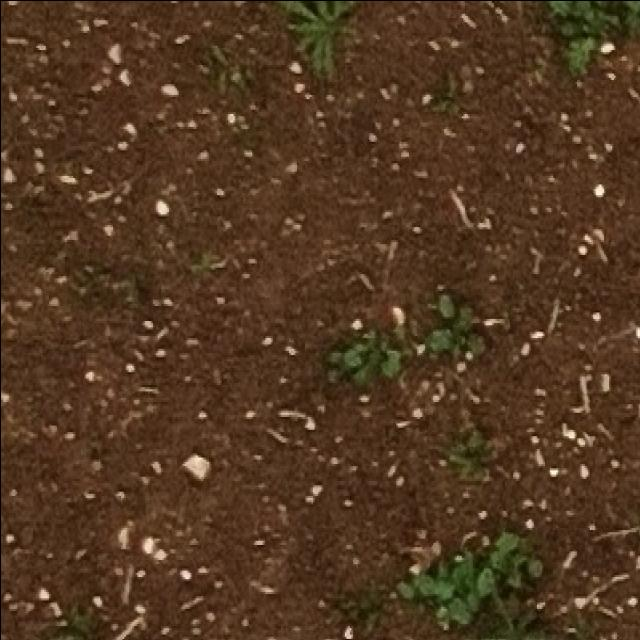cirse: (282, 0, 356, 81)
